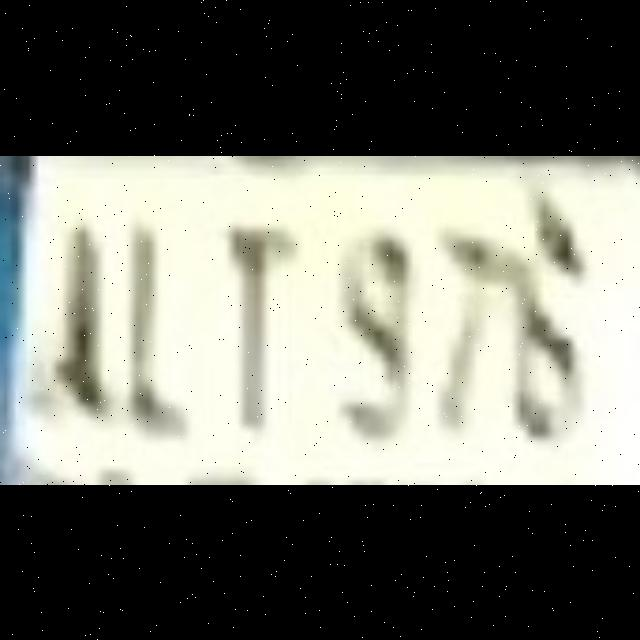7: (412, 184, 508, 462)
8: (509, 184, 606, 462)
9: (314, 184, 412, 462)
A: (22, 184, 120, 462)
L: (120, 184, 216, 462)
T: (218, 184, 314, 462)
